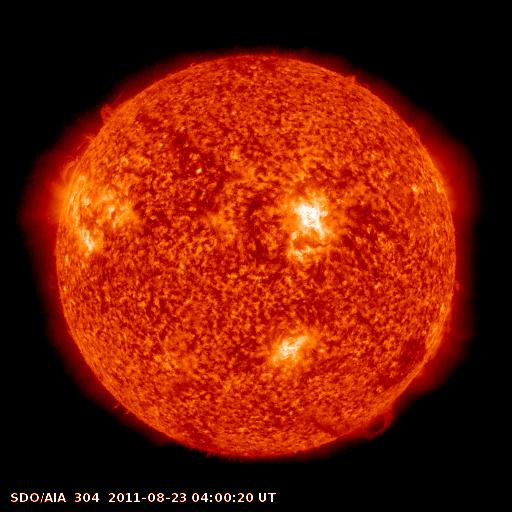prominence: (417, 276, 466, 377), (309, 399, 397, 447), (47, 131, 104, 190), (90, 94, 133, 122)
